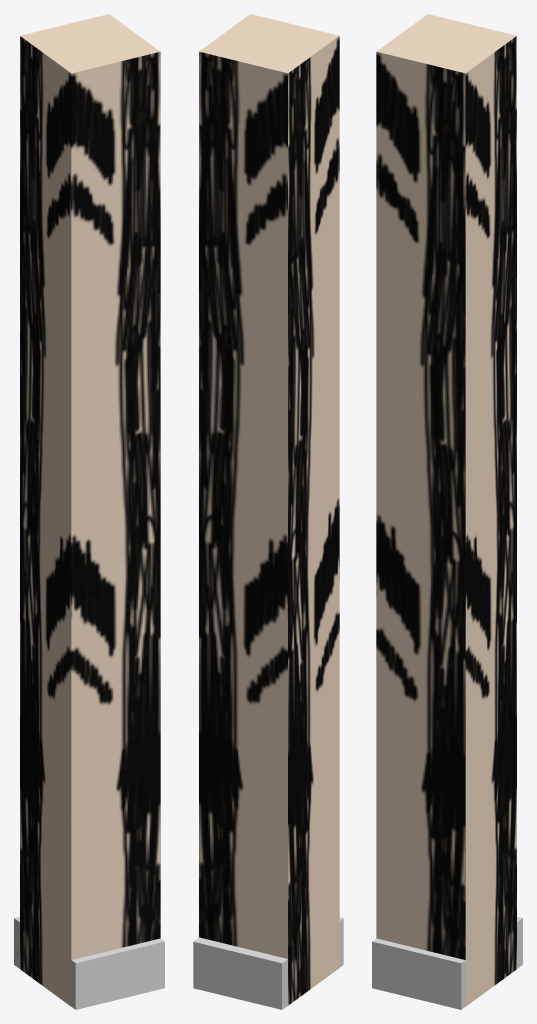
The model's file is columna normal.fbx.
3 renders of one model, left to right at view 1: azimuth 30°, elevation 25°; view 2: azimuth 150°, elevation 25°; view 3: azimuth 330°, elevation 25°, orthographic.
Visible parts, largest first — view 1: columna.001, paredx.008; view 2: columna.001, paredx.008; view 3: columna.001, paredx.008.
Part boxes in pixels (left/top/right/bottom): columna.001: left=20, top=14, right=160, bottom=1006; paredx.008: left=14, top=917, right=164, bottom=1009; columna.001: left=199, top=14, right=339, bottom=1005; paredx.008: left=193, top=917, right=343, bottom=1009; columna.001: left=376, top=14, right=516, bottom=1006; paredx.008: left=372, top=917, right=522, bottom=1009.
Size of the model in its own units: 30.04 by 300 by 36.
